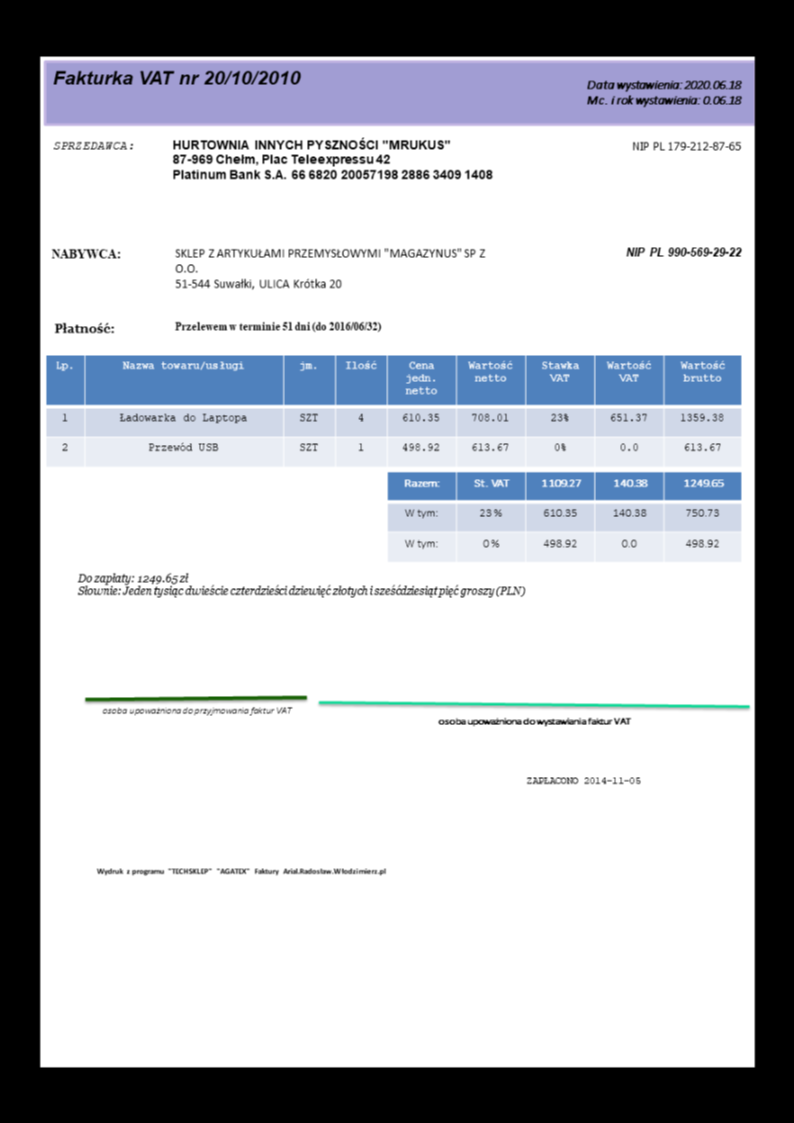Table: (43, 352, 742, 468), (385, 469, 742, 563)
TextBox: (169, 134, 495, 184), (174, 245, 485, 291), (74, 569, 528, 600), (50, 67, 302, 89), (582, 76, 747, 107), (94, 863, 390, 877), (172, 318, 382, 333), (99, 703, 294, 718), (434, 714, 632, 728), (624, 242, 742, 260), (627, 136, 741, 153), (524, 773, 642, 786), (49, 137, 135, 152), (49, 245, 122, 260), (53, 319, 115, 335)
